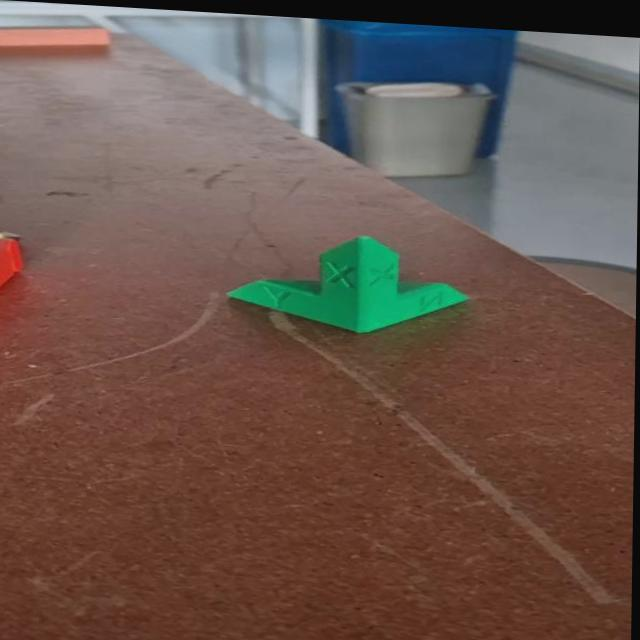eje: (223, 227, 472, 341)
